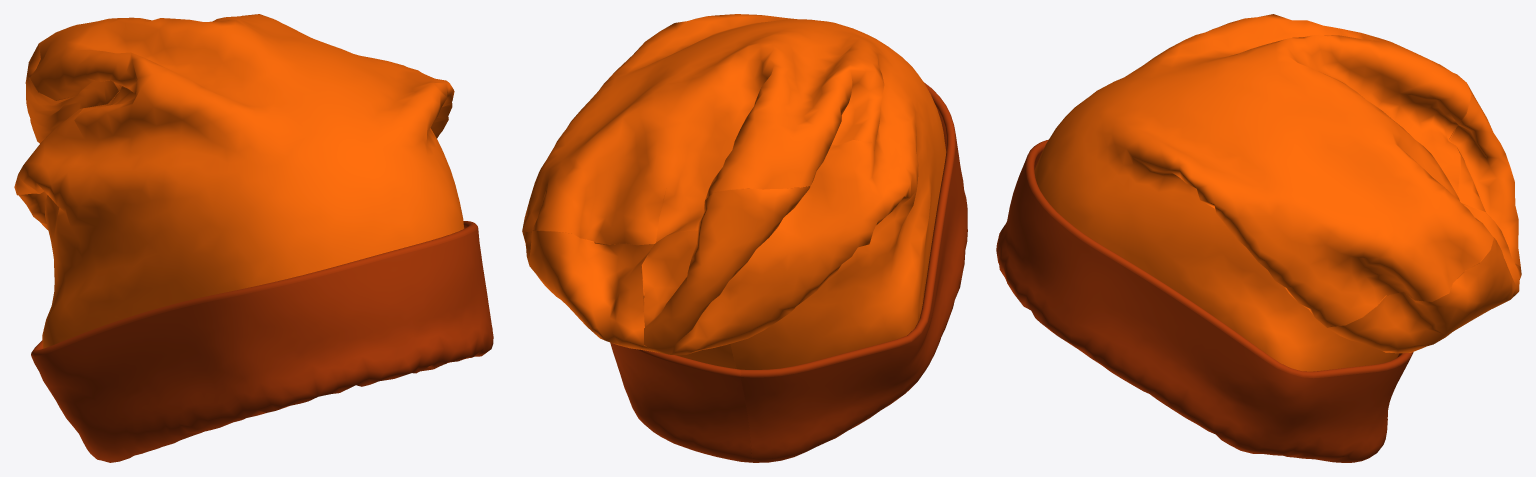
The model's file is CapGeekOrange.FBX.
3 renders of one model, left to right at view 1: azimuth 30°, elevation 25°; view 2: azimuth 150°, elevation 25°; view 3: azimuth 270°, elevation 25°, orthographic. The views are drawn at different scales.
Visible parts, largest first — view 1: Cap; view 2: Cap; view 3: Cap.
Boxes of the visible parts, x1,y1,x2,y2 form: Cap: (14, 14, 493, 462); Cap: (522, 14, 967, 462); Cap: (996, 14, 1521, 462).
Size of the model in its own units: 530 by 554 by 683.
